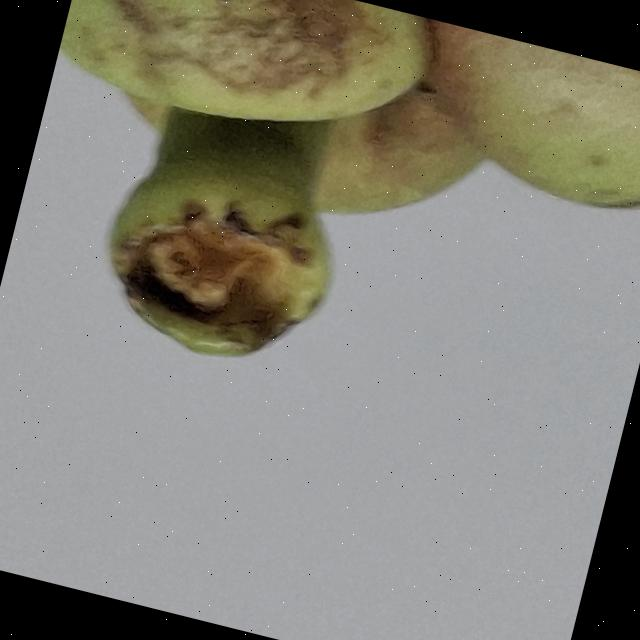mangosteen: (2, 0, 640, 426)
